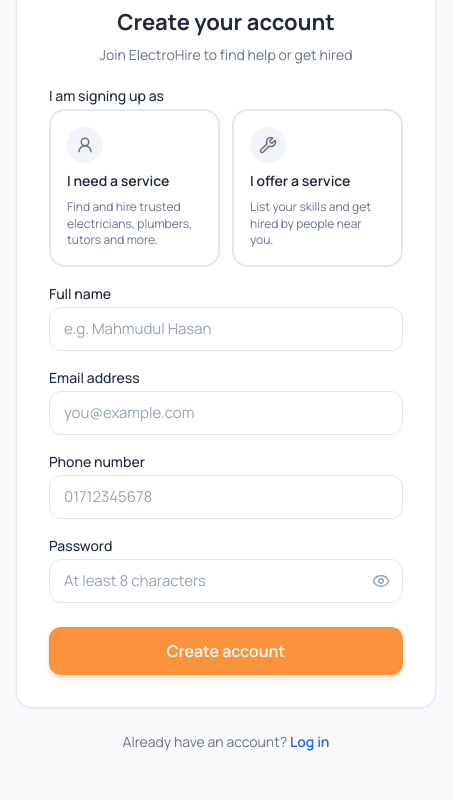
Test: SignupPage › shows a validation error for every empty field on submit, and does not navigate
(page scrolled)
Click the button "Create account" at (226,650), box [49,626,403,674]
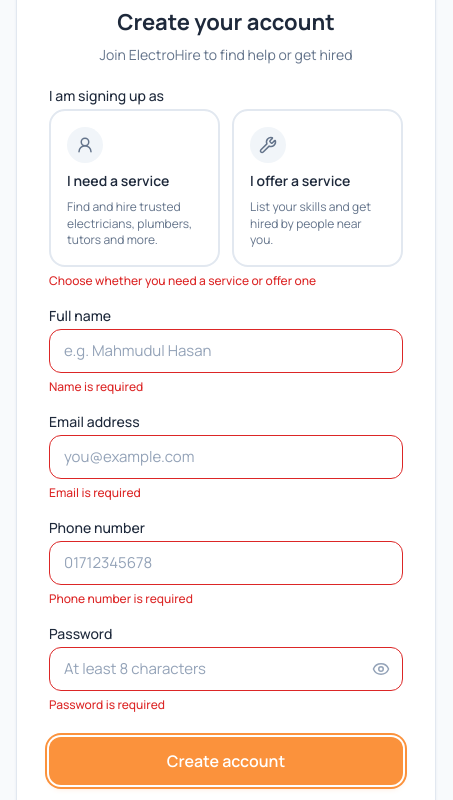
Check: the text "Choose whether you need a service or offer one" is shown, box [49,272,316,288]
Check: the text "Name is required" is shown, box [49,378,143,394]
Check: the text "Email is required" is shown, box [49,484,141,500]
